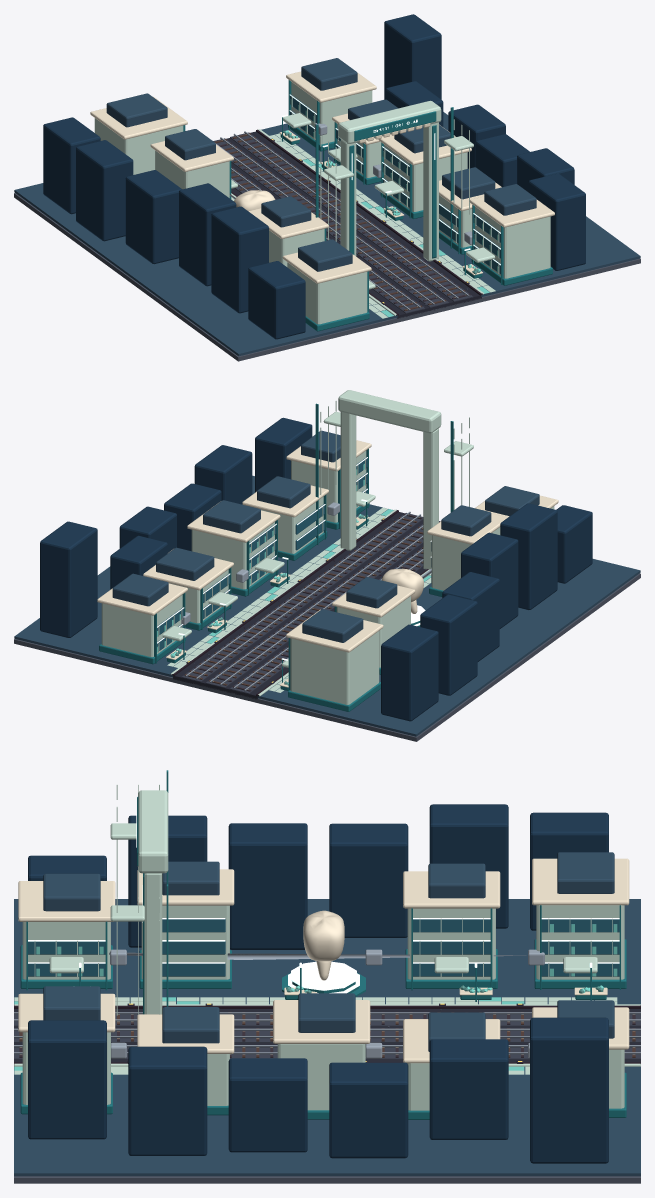
The model's file is 06_Dentist_Ortho_Lab.glb.
The picture shows the model from 3 angles, top to bottom: view 1: azimuth 30°, elevation 25°; view 2: azimuth 150°, elevation 25°; view 3: azimuth 270°, elevation 25°; orthographic projection. The views are drawn at different scales.
Parts seen in each view (by area): view 1: 06_Dentist_Ortho_Lab · nightblue, 06_Dentist_Ortho_Lab · slate, 06_Dentist_Ortho_Lab · tile, 06_Dentist_Ortho_Lab · porcelain, District_Gate, 06_Dentist_Ortho_Lab · stone, 06_Dentist_Ortho_Lab · teal, 06_Dentist_Ortho_Lab · dirt, 06_Dentist_Ortho_Lab · ballast, 06_Dentist_Ortho_Lab · tie, 06_Dentist_Ortho_Lab · clinicglass, 06_Dentist_Ortho_Lab · steel (+5 smaller); view 2: 06_Dentist_Ortho_Lab · nightblue, 06_Dentist_Ortho_Lab · slate, 06_Dentist_Ortho_Lab · tile, 06_Dentist_Ortho_Lab · porcelain, District_Gate, 06_Dentist_Ortho_Lab · stone, 06_Dentist_Ortho_Lab · teal, 06_Dentist_Ortho_Lab · ballast, 06_Dentist_Ortho_Lab · dirt, 06_Dentist_Ortho_Lab · tie, 06_Dentist_Ortho_Lab · steel, 06_Dentist_Ortho_Lab · clinicglass (+5 smaller); view 3: 06_Dentist_Ortho_Lab · nightblue, 06_Dentist_Ortho_Lab · slate, 06_Dentist_Ortho_Lab · tile, 06_Dentist_Ortho_Lab · porcelain, 06_Dentist_Ortho_Lab · clinicglass, District_Gate, 06_Dentist_Ortho_Lab · teal, 06_Dentist_Ortho_Lab · dirt, 06_Dentist_Ortho_Lab · stone, 06_Dentist_Ortho_Lab · steel, 06_Dentist_Ortho_Lab · fluoro, 06_Dentist_Ortho_Lab · ballast (+4 smaller).
Part boxes in pixels (x1,y1,x2,y2): 06_Dentist_Ortho_Lab · nightblue: (43, 14, 585, 339); 06_Dentist_Ortho_Lab · slate: (14, 58, 640, 356); 06_Dentist_Ortho_Lab · tile: (94, 82, 550, 324); 06_Dentist_Ortho_Lab · porcelain: (90, 71, 554, 300); District_Gate: (315, 100, 473, 261); 06_Dentist_Ortho_Lab · stone: (213, 132, 473, 313); 06_Dentist_Ortho_Lab · teal: (183, 80, 552, 331); 06_Dentist_Ortho_Lab · dirt: (14, 193, 640, 361); 06_Dentist_Ortho_Lab · ballast: (226, 131, 481, 318); 06_Dentist_Ortho_Lab · tie: (214, 133, 465, 311); 06_Dentist_Ortho_Lab · clinicglass: (290, 94, 500, 274); 06_Dentist_Ortho_Lab · steel: (215, 123, 472, 309); 06_Dentist_Ortho_Lab · nightblue: (40, 417, 592, 721); 06_Dentist_Ortho_Lab · slate: (14, 430, 640, 736); 06_Dentist_Ortho_Lab · tile: (101, 451, 554, 704); 06_Dentist_Ortho_Lab · porcelain: (97, 440, 558, 687); District_Gate: (315, 390, 473, 569); 06_Dentist_Ortho_Lab · stone: (181, 513, 440, 694); 06_Dentist_Ortho_Lab · teal: (99, 449, 443, 711); 06_Dentist_Ortho_Lab · ballast: (173, 512, 426, 699); 06_Dentist_Ortho_Lab · dirt: (14, 573, 640, 741); 06_Dentist_Ortho_Lab · tie: (184, 517, 439, 687); 06_Dentist_Ortho_Lab · steel: (181, 502, 431, 690); 06_Dentist_Ortho_Lab · clinicglass: (157, 457, 431, 650); 06_Dentist_Ortho_Lab · nightblue: (28, 804, 608, 1163); 06_Dentist_Ortho_Lab · slate: (14, 852, 640, 1176); 06_Dentist_Ortho_Lab · tile: (14, 905, 640, 1110); 06_Dentist_Ortho_Lab · porcelain: (18, 858, 629, 1063); 06_Dentist_Ortho_Lab · clinicglass: (28, 919, 619, 976); District_Gate: (110, 770, 168, 1015); 06_Dentist_Ortho_Lab · teal: (20, 905, 626, 1119); 06_Dentist_Ortho_Lab · dirt: (14, 1176, 640, 1183); 06_Dentist_Ortho_Lab · stone: (14, 1009, 640, 1059); 06_Dentist_Ortho_Lab · steel: (14, 949, 640, 1058); 06_Dentist_Ortho_Lab · fluoro: (28, 918, 619, 993); 06_Dentist_Ortho_Lab · ballast: (14, 1009, 640, 1062).
Bounding box in the file's own units: 56 × 21.8 × 54.
